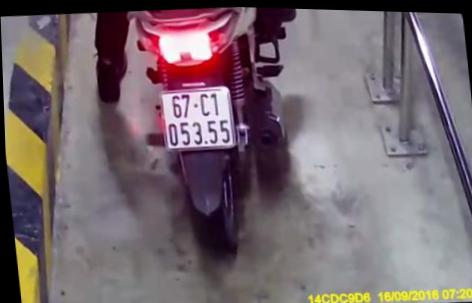LP: (156, 82, 237, 151)
